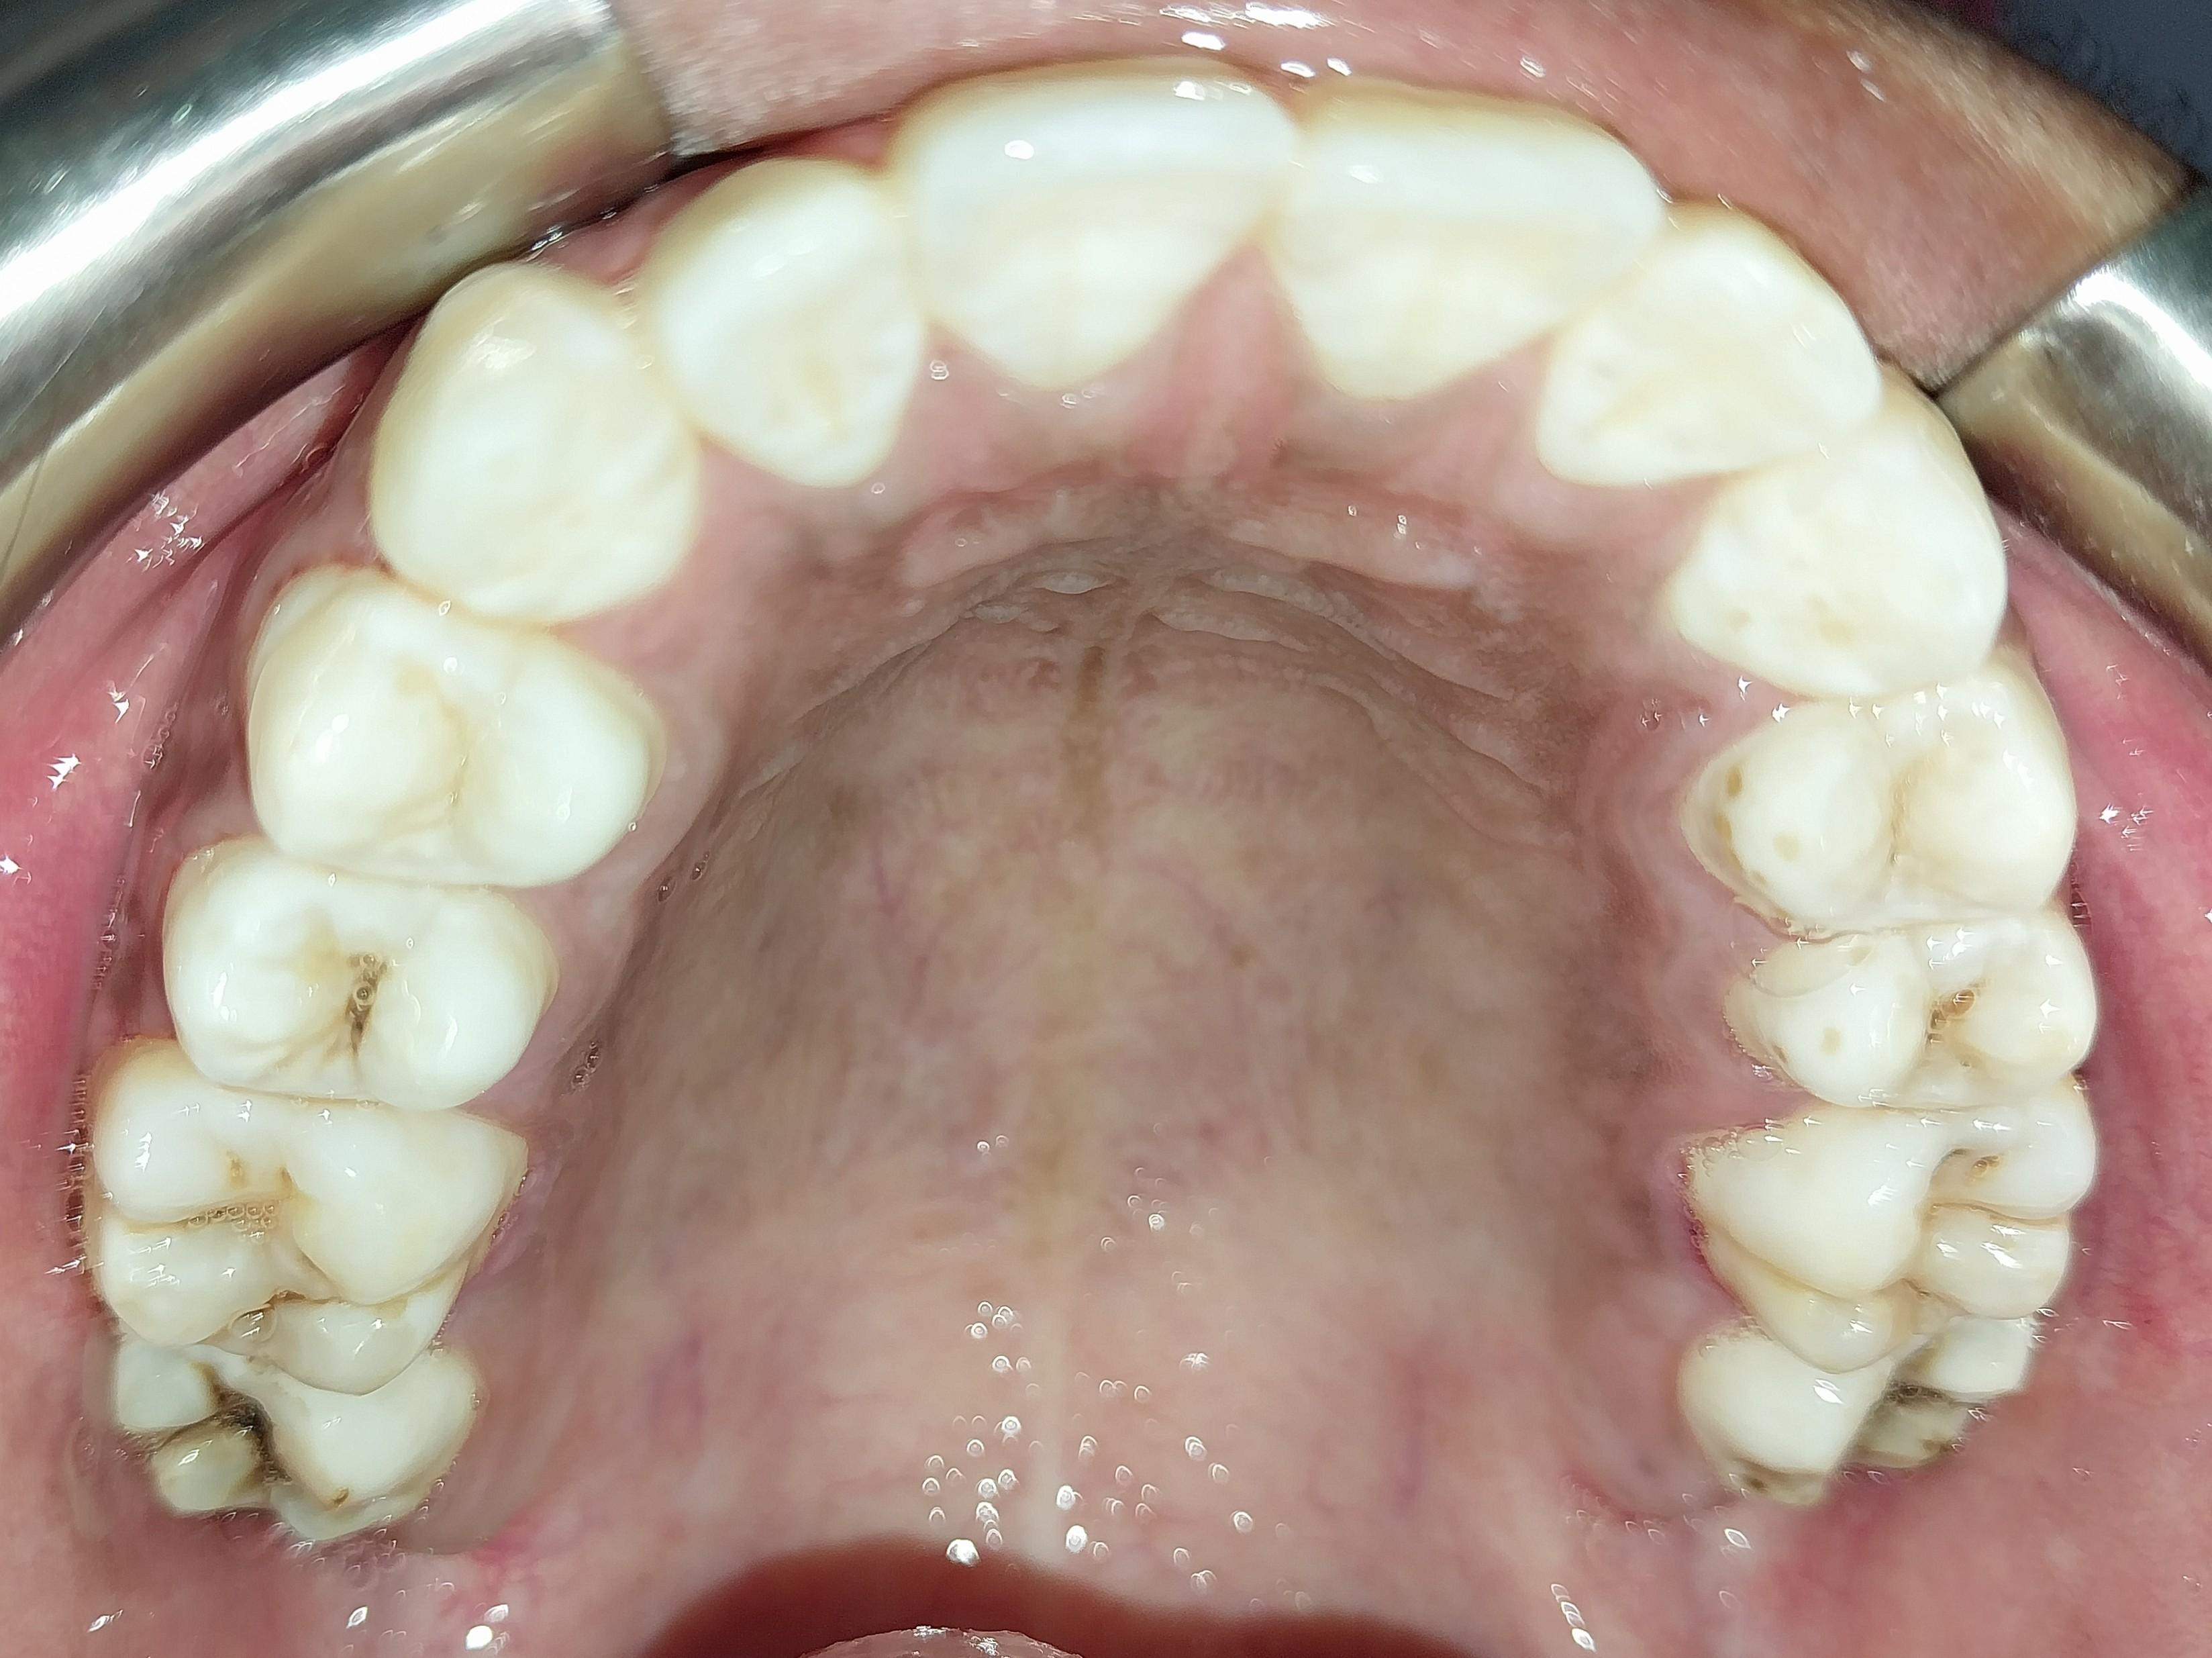D: (82, 1047, 518, 1391), (1699, 1089, 2101, 1371), (163, 863, 546, 1106), (82, 1326, 488, 1542), (1690, 1312, 2051, 1506), (1752, 930, 2096, 1114)
